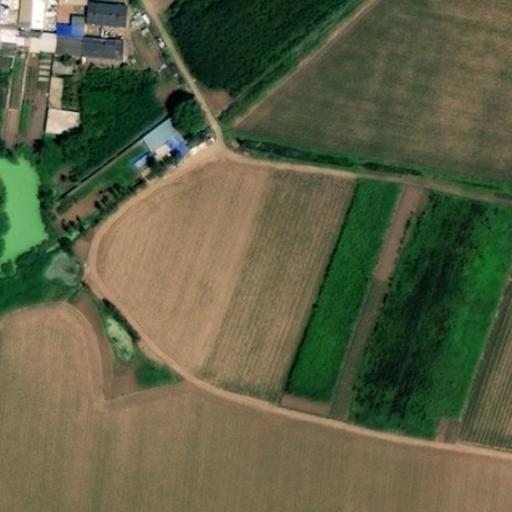building: (19, 45, 127, 75), (143, 130, 189, 165), (21, 8, 59, 40), (50, 75, 76, 119), (87, 15, 125, 42), (48, 118, 81, 149), (2, 9, 22, 39), (72, 28, 88, 51)
